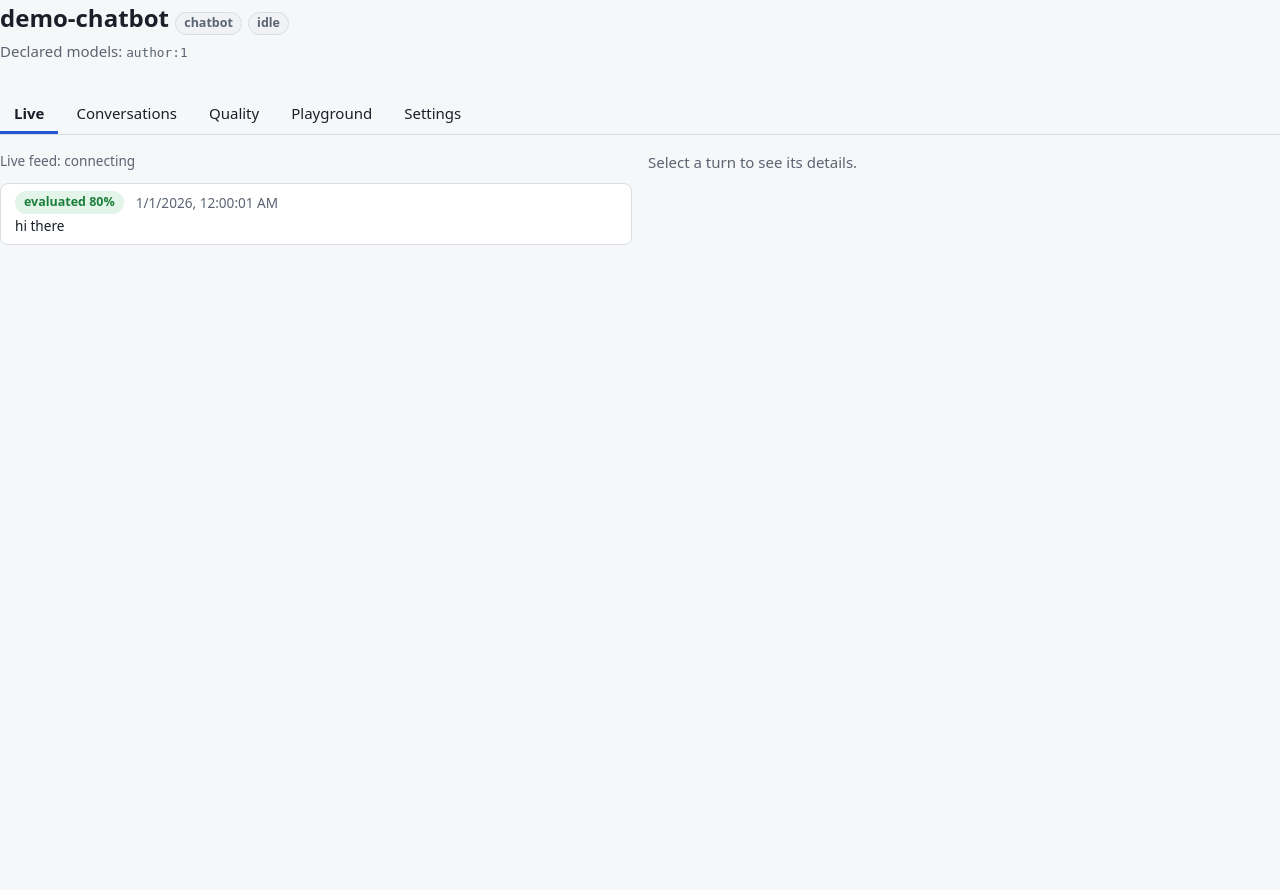
Test: settings tab › marks the agent’s own model as ineligible to evaluate it
The width and height of the screenshot is (1280, 890).
Click the tab "Settings" at coordinates (433, 114), box [390,94,475,134]
(page scrolled)
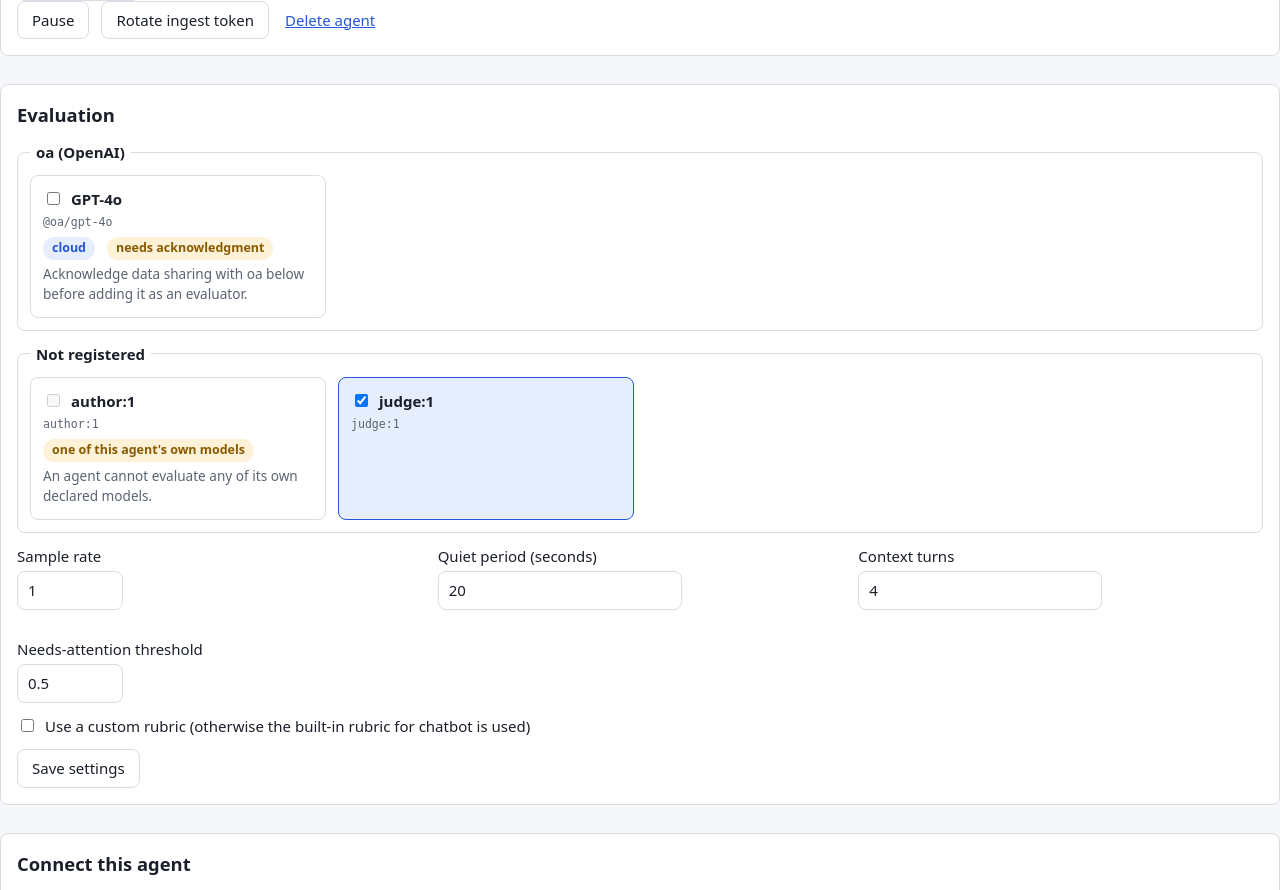
Now the checkbox labelled "author:1" is disabled, box [47,394,60,407]
Now the text "one of this agent's own models" is shown, box [43,439,254,462]
